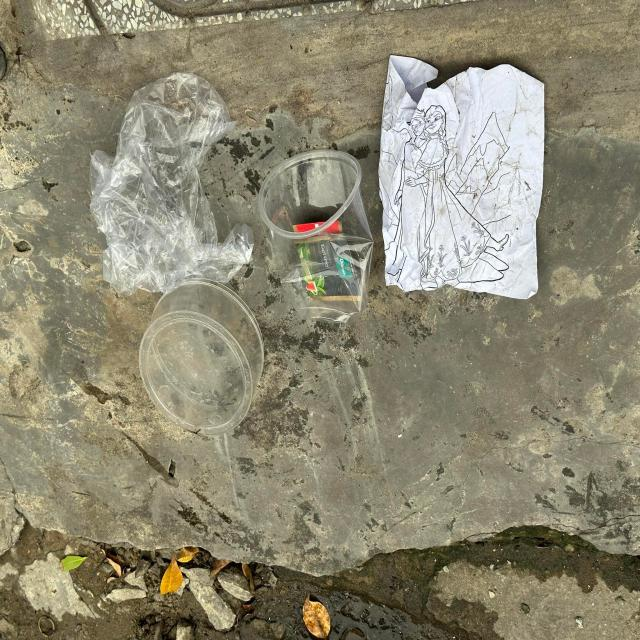bag: (89, 72, 254, 298)
paper: (377, 55, 545, 301)
plastic glass: (257, 149, 375, 326)
plastic holder: (139, 281, 264, 437)
